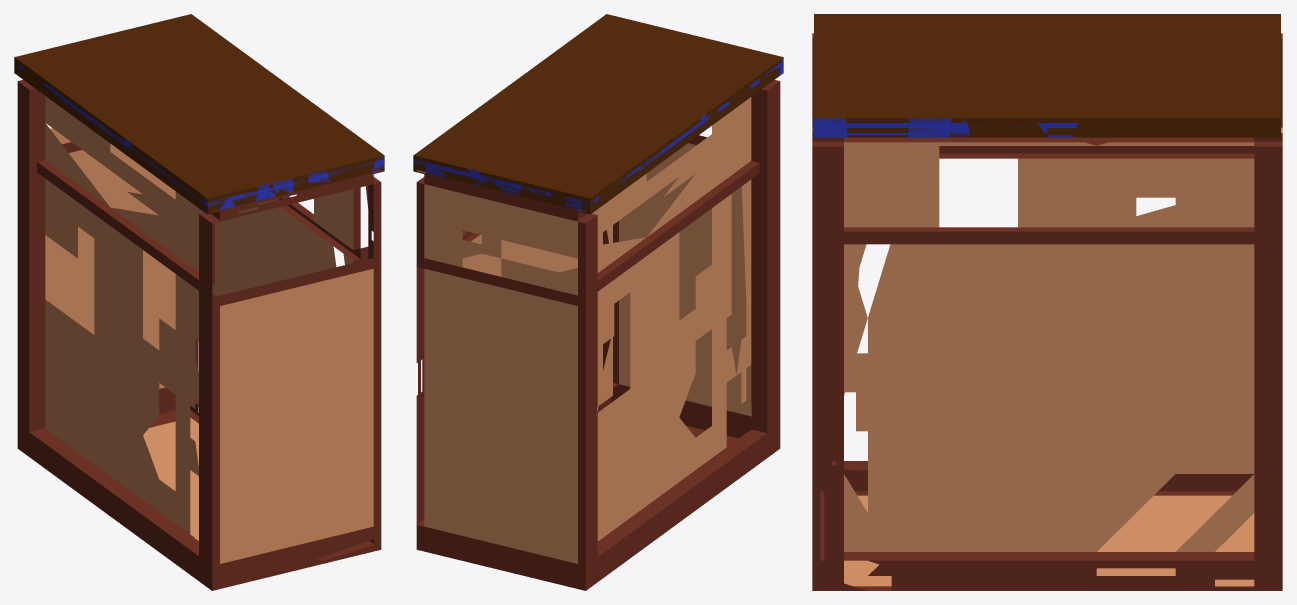
The model's file is semidemolished_yamato_wall.fbx.
The picture shows the model from 3 angles, left to right: view 1: azimuth 30°, elevation 25°; view 2: azimuth 150°, elevation 25°; view 3: azimuth 270°, elevation 25°; orthographic projection. The views are drawn at different scales.
Visible parts, largest first — view 1: Cube, Cube.001, Cube.001_cell.066, Cube.001_cell.033, Cube.001_cell.095, Cube.001_cell.057, Cube.001_cell.070, Cube.001_cell.018, Cube.001_cell.019, Cube.001_cell.063, Cube.001_cell.011, Cube.001_cell.015 (+2 smaller); view 2: Cube, Cube.001, Cube.001_cell.066, Cube.001_cell.033, Cube.001_cell.095, Cube.001_cell.018, Cube.001_cell.019, Cube.001_cell.063, Cube.001_cell.011, Cube.001_cell.057, Cube.001_cell.015, Cube.001_cell.044 (+1 smaller); view 3: Cube, Cube.001, Cube.001_cell.066, Cube.001_cell.095, Cube.001_cell.033, Cube.001_cell.018, Cube.001_cell.019, Cube.001_cell.011, Cube.001_cell.098, Cube.001_cell.015, Cube.001_cell.057, Cube.001_cell.089 (+8 smaller).
Part boxes in pixels (x1,y1,x2,y2): Cube: [17, 80, 381, 590]; Cube.001: [14, 17, 384, 214]; Cube.001_cell.066: [122, 39, 187, 80]; Cube.001_cell.033: [62, 85, 126, 129]; Cube.001_cell.095: [224, 84, 280, 118]; Cube.001_cell.057: [157, 100, 225, 120]; Cube.001_cell.070: [334, 147, 376, 178]; Cube.001_cell.018: [184, 61, 237, 84]; Cube.001_cell.019: [107, 104, 163, 131]; Cube.001_cell.063: [94, 113, 139, 150]; Cube.001_cell.011: [50, 54, 114, 69]; Cube.001_cell.015: [279, 142, 336, 160]; Cube: [416, 80, 780, 590]; Cube.001: [413, 17, 783, 213]; Cube.001_cell.066: [474, 127, 561, 158]; Cube.001_cell.033: [611, 134, 670, 171]; Cube.001_cell.095: [534, 77, 602, 104]; Cube.001_cell.018: [493, 103, 548, 125]; Cube.001_cell.019: [630, 114, 680, 136]; Cube.001_cell.063: [658, 114, 700, 153]; Cube.001_cell.011: [551, 158, 595, 182]; Cube.001_cell.057: [593, 93, 636, 118]; Cube.001_cell.015: [609, 34, 655, 55]; Cube.001_cell.044: [585, 178, 617, 208]; Cube: [812, 33, 1282, 590]; Cube.001: [814, 14, 1280, 137]; Cube.001_cell.066: [1127, 58, 1234, 99]; Cube.001_cell.095: [988, 73, 1079, 105]; Cube.001_cell.033: [1087, 14, 1166, 35]; Cube.001_cell.018: [1079, 76, 1147, 107]; Cube.001_cell.019: [1020, 21, 1095, 44]; Cube.001_cell.011: [1198, 23, 1252, 54]; Cube.001_cell.098: [1191, 99, 1238, 132]; Cube.001_cell.015: [845, 72, 896, 101]; Cube.001_cell.057: [1013, 43, 1073, 76]; Cube.001_cell.089: [907, 118, 951, 137].
Bounding box in the file's own units: 230 × 488 × 438.
